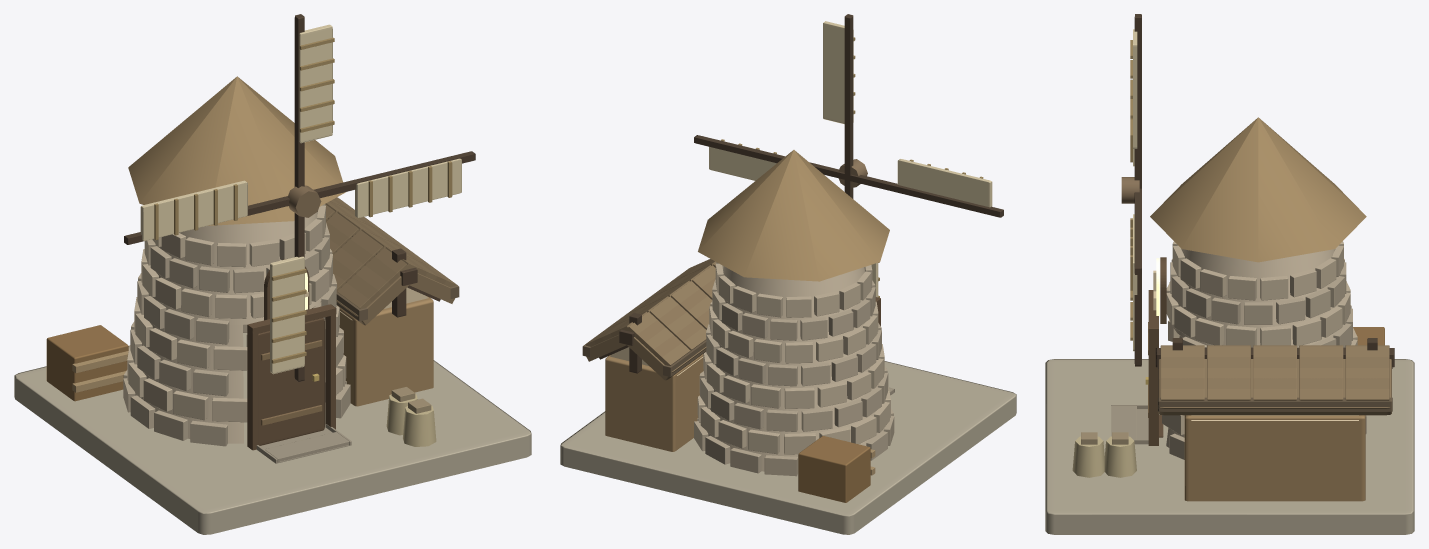
File: mill-3.glb
The picture shows the model from 3 angles, left to right: view 1: azimuth 30°, elevation 25°; view 2: azimuth 150°, elevation 25°; view 3: azimuth 270°, elevation 25°; orthographic projection. The views are drawn at different scales.
Parts seen in each view (by area): view 1: mill-3-0, mill-fan, door-hinge; view 2: mill-3-0, mill-fan; view 3: mill-3-0, mill-fan.
Part boxes in pixels (x1,y1,x2,y2): mill-3-0: (14, 76, 531, 534); mill-fan: (124, 14, 475, 382); door-hinge: (258, 318, 324, 445); mill-3-0: (560, 150, 1016, 534); mill-fan: (694, 14, 1003, 297); mill-3-0: (1045, 117, 1414, 534); mill-fan: (1121, 14, 1141, 366).
Bounding box in the file's own units: 3.1 × 3.7 × 2.86.
